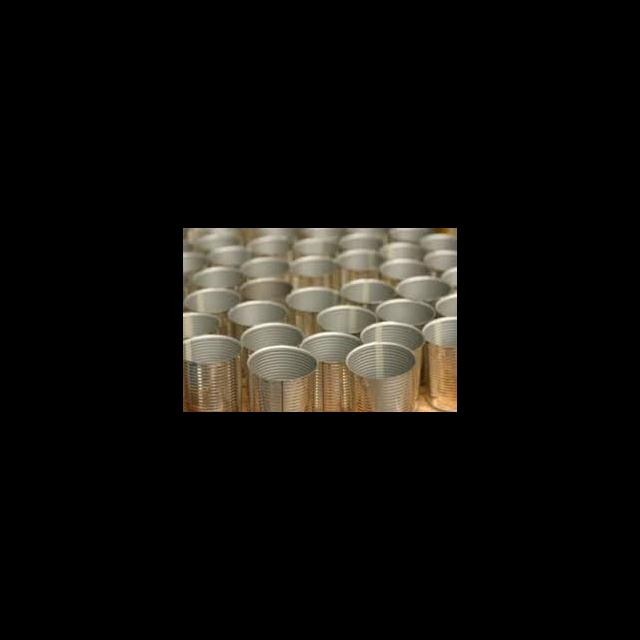metal: (242, 321, 305, 411), (358, 320, 423, 402), (344, 341, 417, 411), (299, 331, 359, 411), (246, 344, 317, 411), (183, 333, 242, 411), (422, 315, 456, 411), (183, 287, 240, 342), (289, 286, 340, 333), (315, 303, 377, 341), (341, 279, 396, 316), (373, 298, 434, 326), (290, 257, 338, 290), (241, 257, 291, 287), (192, 267, 246, 293), (183, 310, 223, 344), (395, 276, 448, 301), (380, 259, 427, 286), (341, 249, 381, 280), (240, 278, 290, 302), (422, 249, 456, 270), (419, 233, 456, 252), (434, 292, 456, 316), (386, 228, 430, 240), (442, 266, 456, 293)
